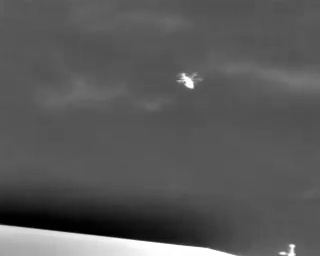HELICOPTER: (171, 66, 208, 96)
